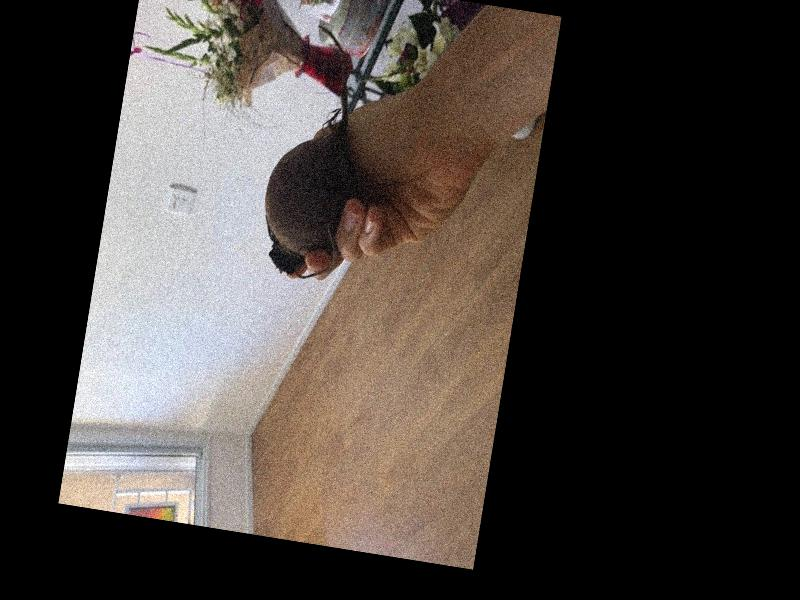Beet: (254, 22, 379, 284)
